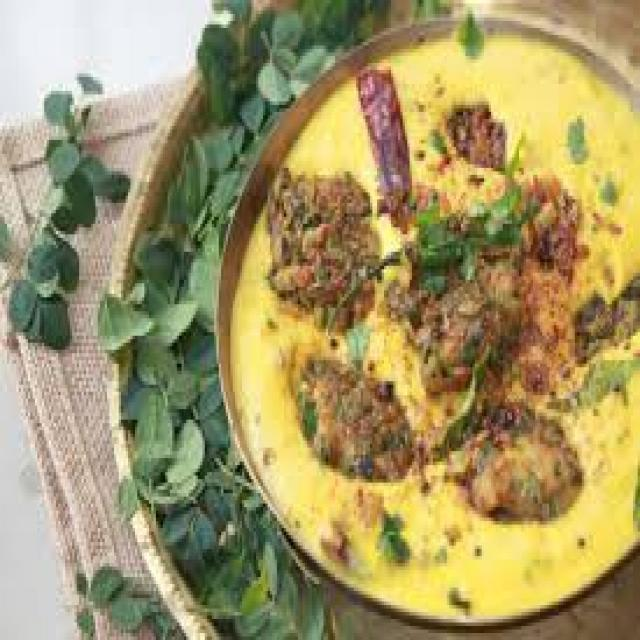Kadhi Pakora: (230, 32, 640, 618)
